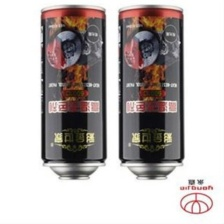aerosol_cans: (35, 2, 109, 183), (116, 3, 186, 184)
